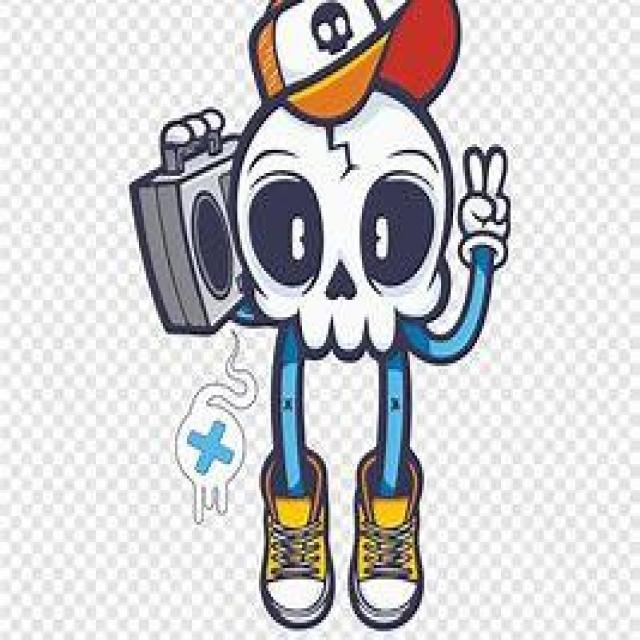nonspitting: (131, 0, 511, 634)
